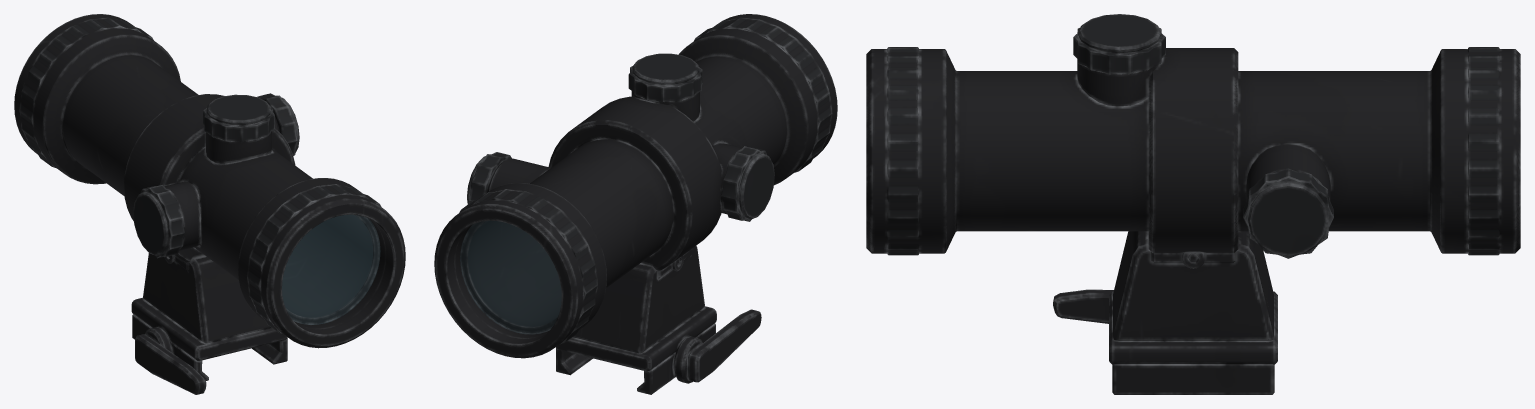
File: Optic_RedDot.fbx
3 renders of one model, left to right at view 1: azimuth 30°, elevation 25°; view 2: azimuth 150°, elevation 25°; view 3: azimuth 270°, elevation 25°, orthographic. The views are drawn at different scales.
Parts seen in each view (by area): view 1: Body, Lens_Front; view 2: Body, Lens_Rear; view 3: Body.
Boxes of the visible parts, bbox=[...] form: Body: bbox=[14, 14, 405, 394]; Lens_Front: bbox=[282, 214, 380, 324]; Body: bbox=[434, 14, 837, 394]; Lens_Rear: bbox=[460, 220, 561, 334]; Body: bbox=[866, 14, 1520, 394].
Bounding box in the file's own units: 0.0564 × 0.0723 × 0.124.
